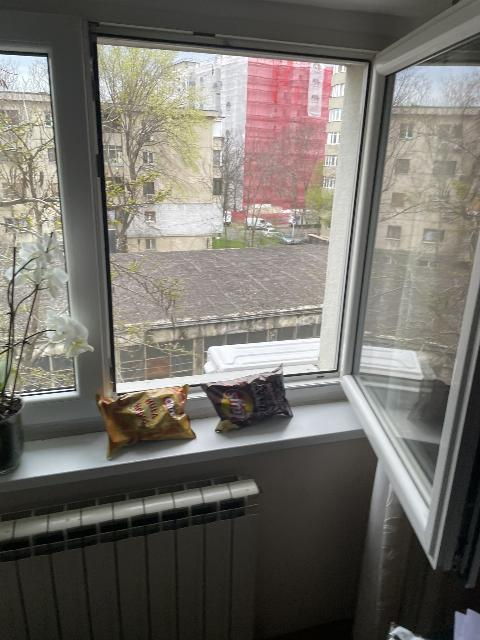Chio Hula Hoops Cheese 70g: (97, 383, 197, 458)
Lays Beef Grilled Ribs 125g: (201, 362, 296, 432)
